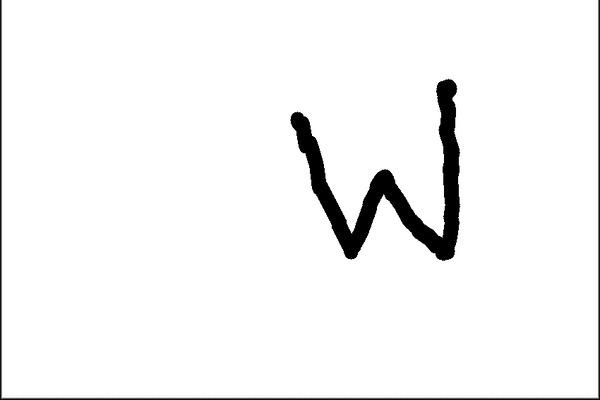w: (268, 58, 477, 287)
